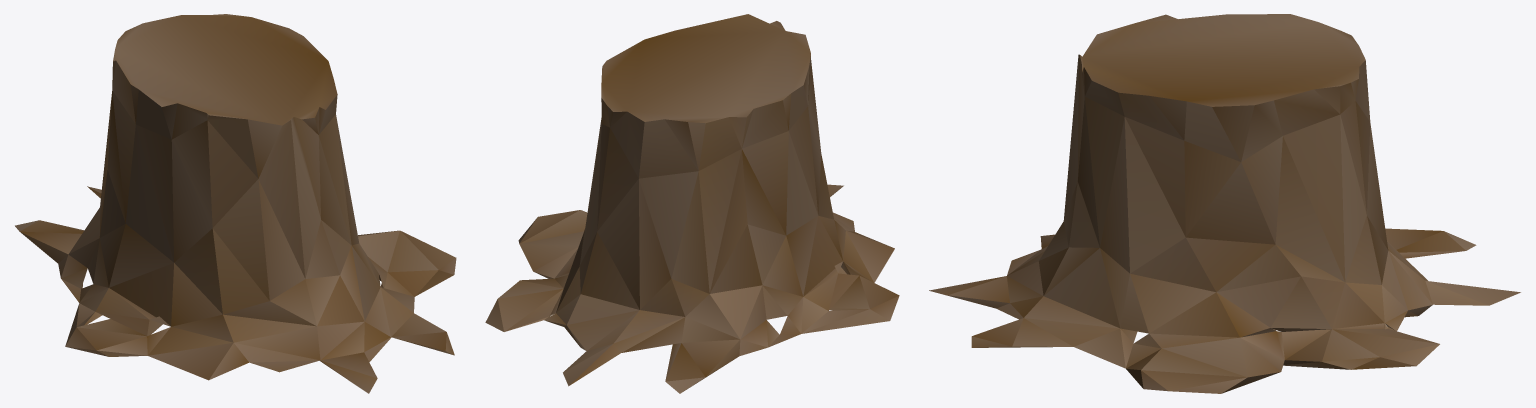
The model's file is chestnut_stump.glb.
The picture shows the model from 3 angles, left to right: view 1: azimuth 30°, elevation 25°; view 2: azimuth 150°, elevation 25°; view 3: azimuth 270°, elevation 25°; orthographic projection. The views are drawn at different scales.
Visible parts, largest first — view 1: Stump; view 2: Stump; view 3: Stump.
Part boxes in pixels (bbox=[...]): Stump: bbox=[15, 14, 456, 393]; Stump: bbox=[485, 14, 899, 393]; Stump: bbox=[929, 14, 1520, 393].
Size of the model in its own units: 1.38 by 0.8224 by 1.79.
